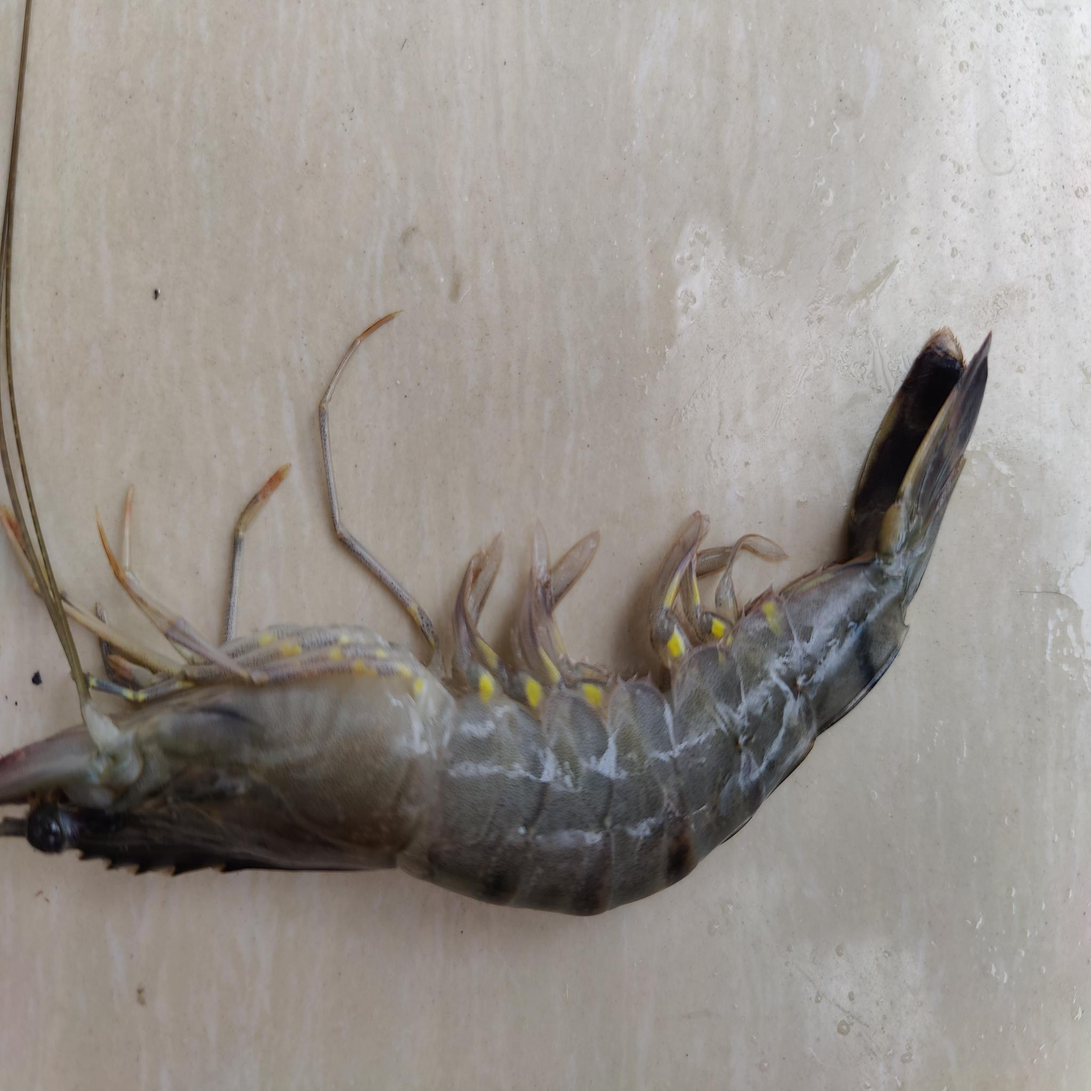whitespot: (249, 677, 598, 891)
